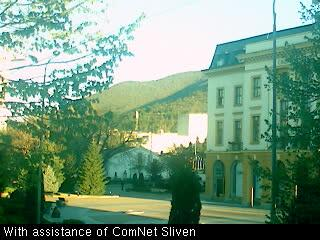person: (121, 184, 124, 191)
